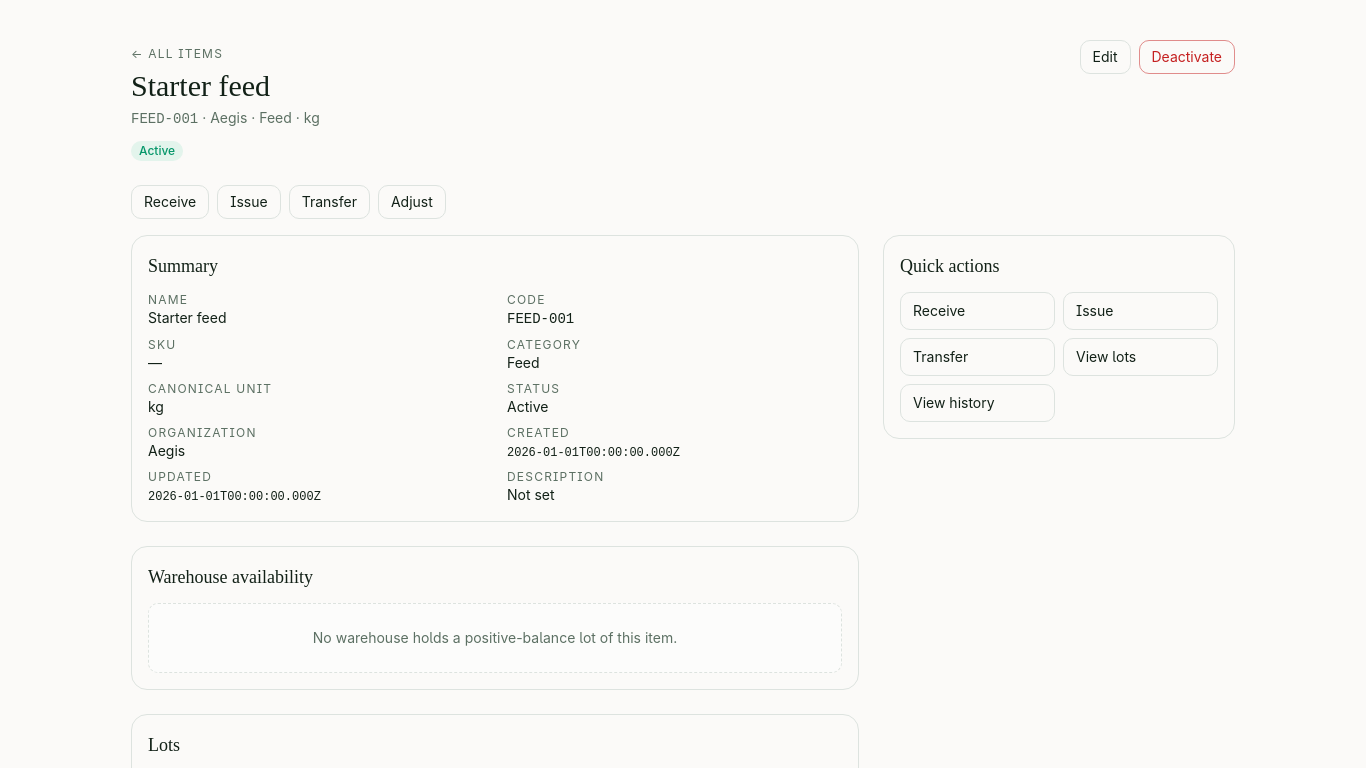
StockOperationDialog — issue › insufficient-stock 422 surfaces at the quantity field
This screenshot has width=1366, height=768.
Check: the element with test id "item-detail-stock-actions" is shown, box [131, 185, 446, 219]
Click the button with test id "item-detail-stock-issue" at coordinates (249, 202), box [217, 185, 281, 219]
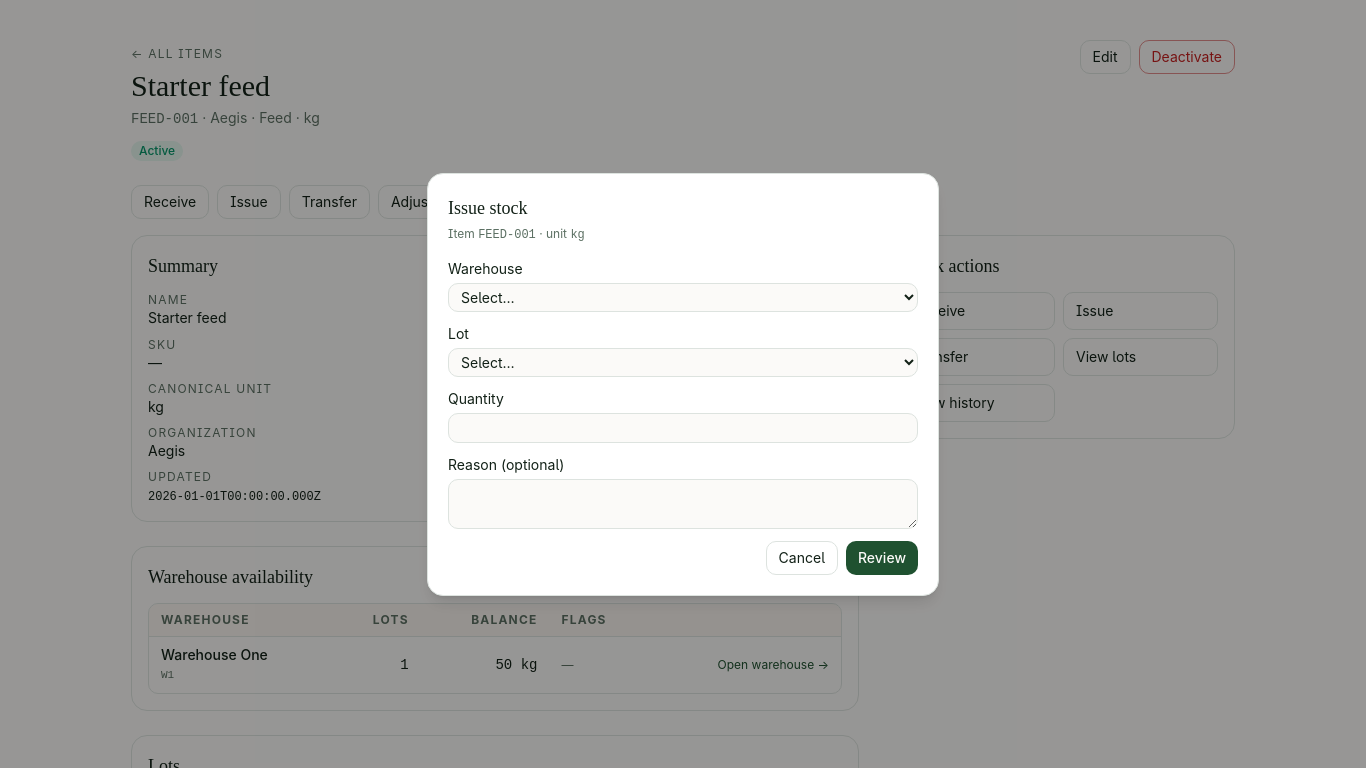
Select "Warehouse One" in the dropdown with test id "stock-op-issue-warehouse" at coordinates (683, 297), box [448, 282, 918, 312]
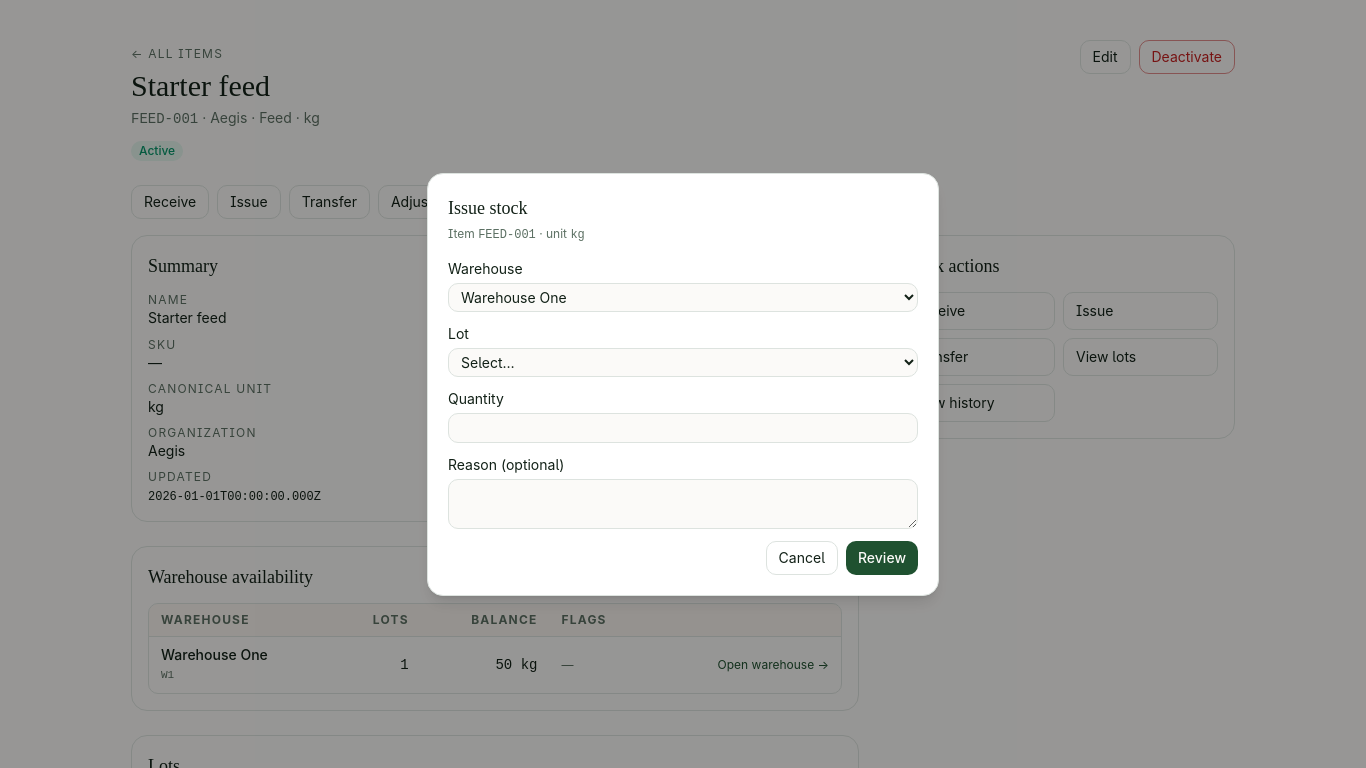
Select "L1 — bal 50 kg" in the dropdown with test id "stock-op-issue-lot" at coordinates (683, 362), box [448, 348, 918, 376]
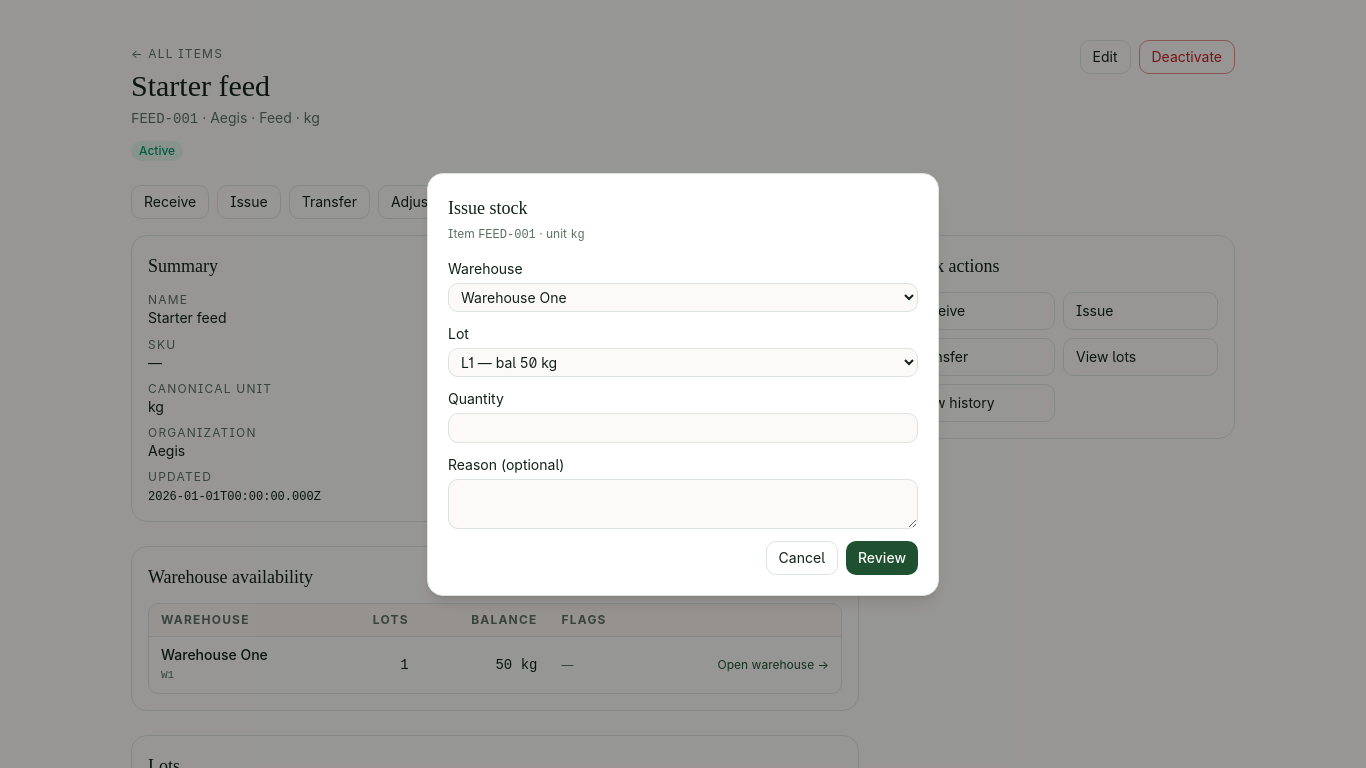
Type "9999" into the number field with test id "stock-op-issue-quantity" at coordinates (683, 428), box [448, 412, 918, 442]
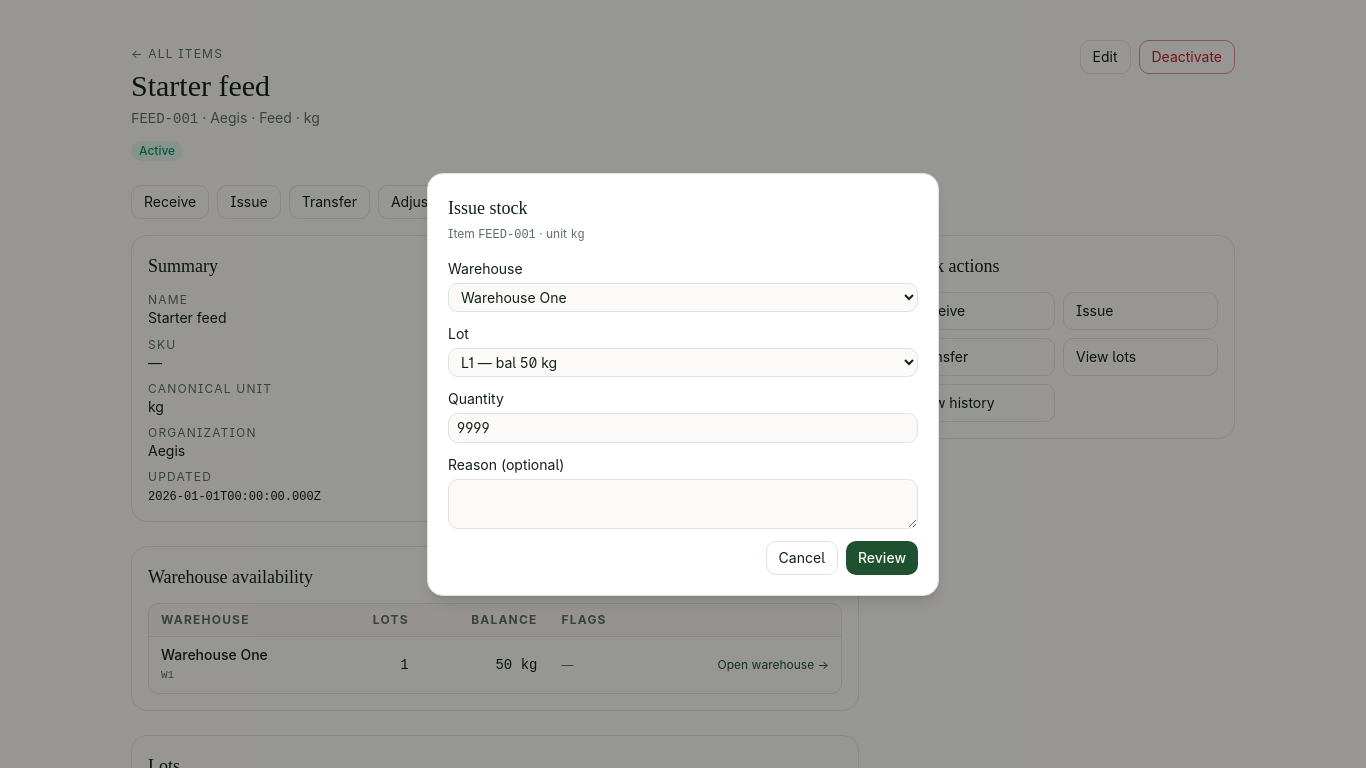
Click the button with test id "stock-op-issue-submit" at coordinates (882, 558), box [846, 540, 918, 574]
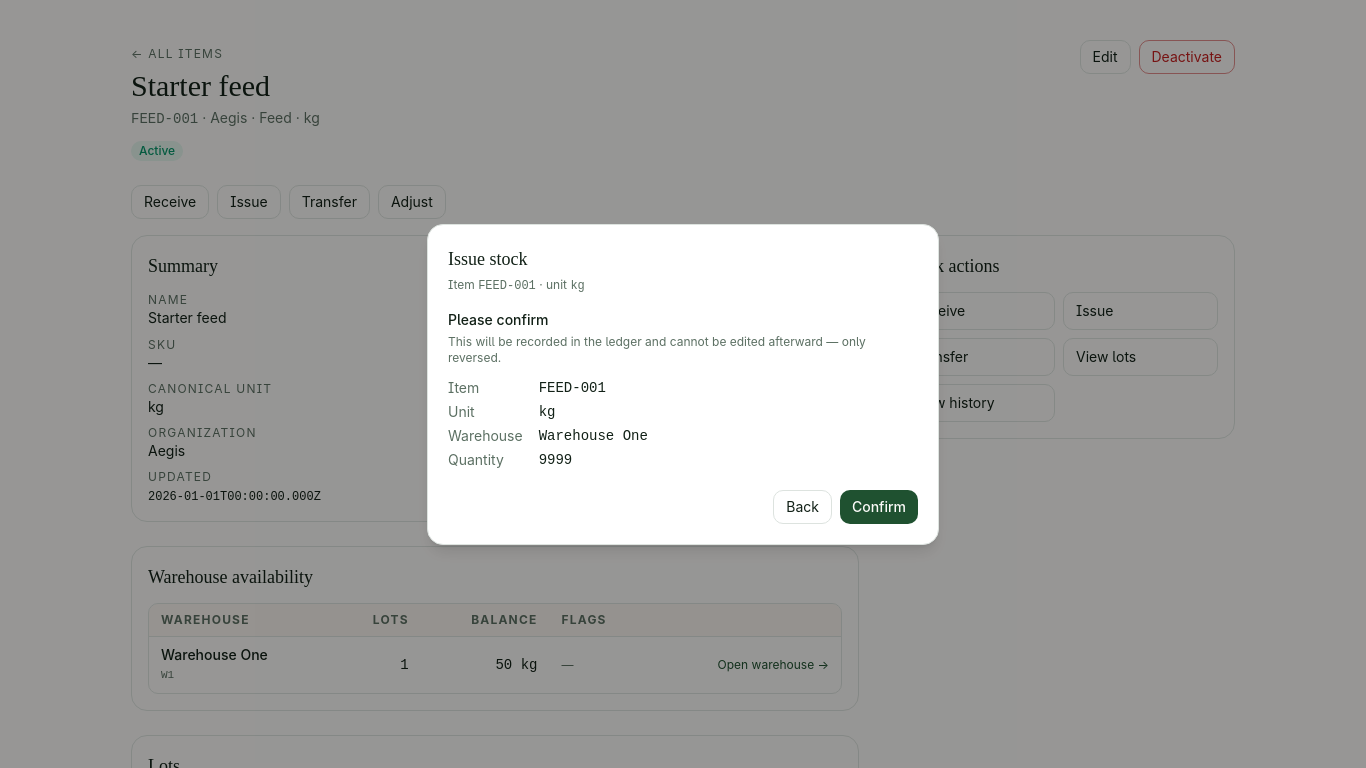
Check: the button with test id "stock-op-issue-confirm" is shown
Click the button with test id "stock-op-issue-confirm" at coordinates (879, 506), box [840, 490, 918, 524]
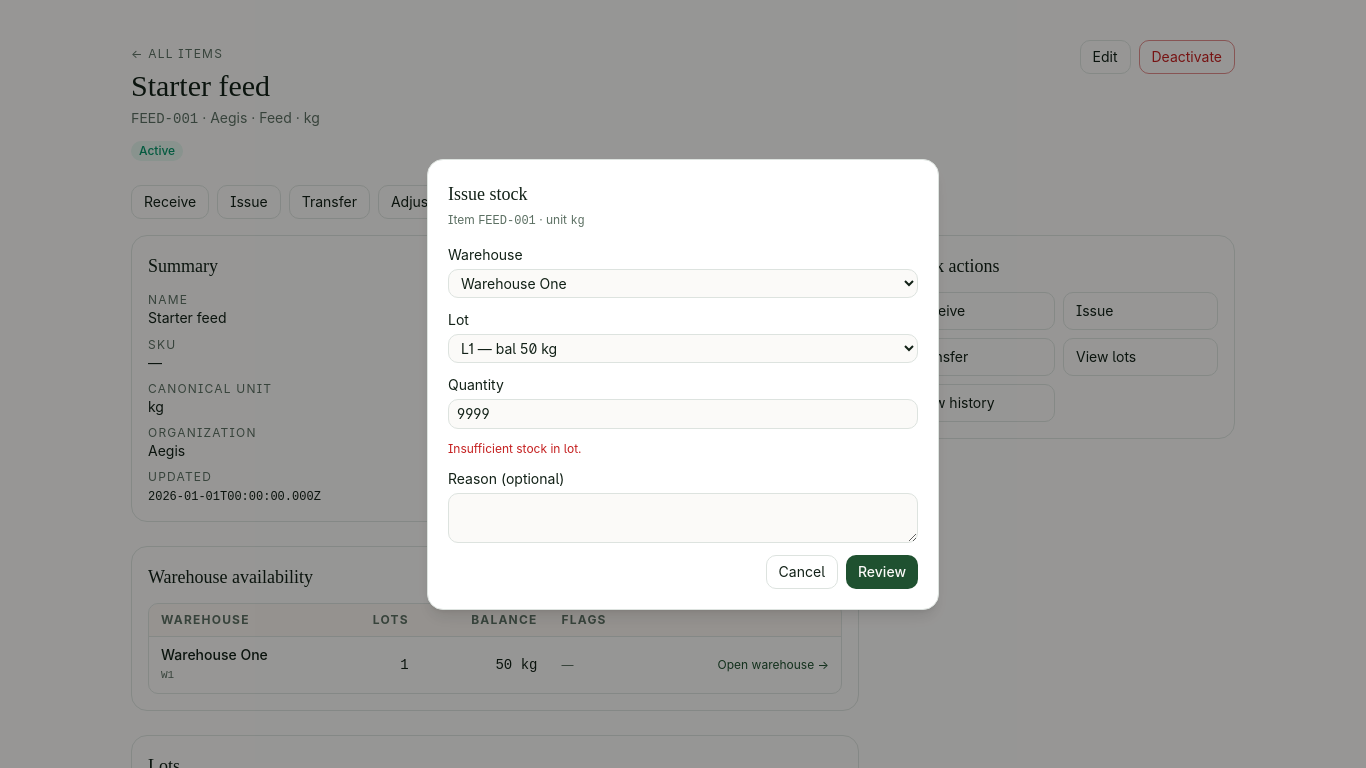
Check: the dialog with test id "stock-op-issue" is shown
Check: the message with test id "stock-op-issue-quantity-error" reads "Insufficient stock in lot.", box [448, 440, 582, 456]
